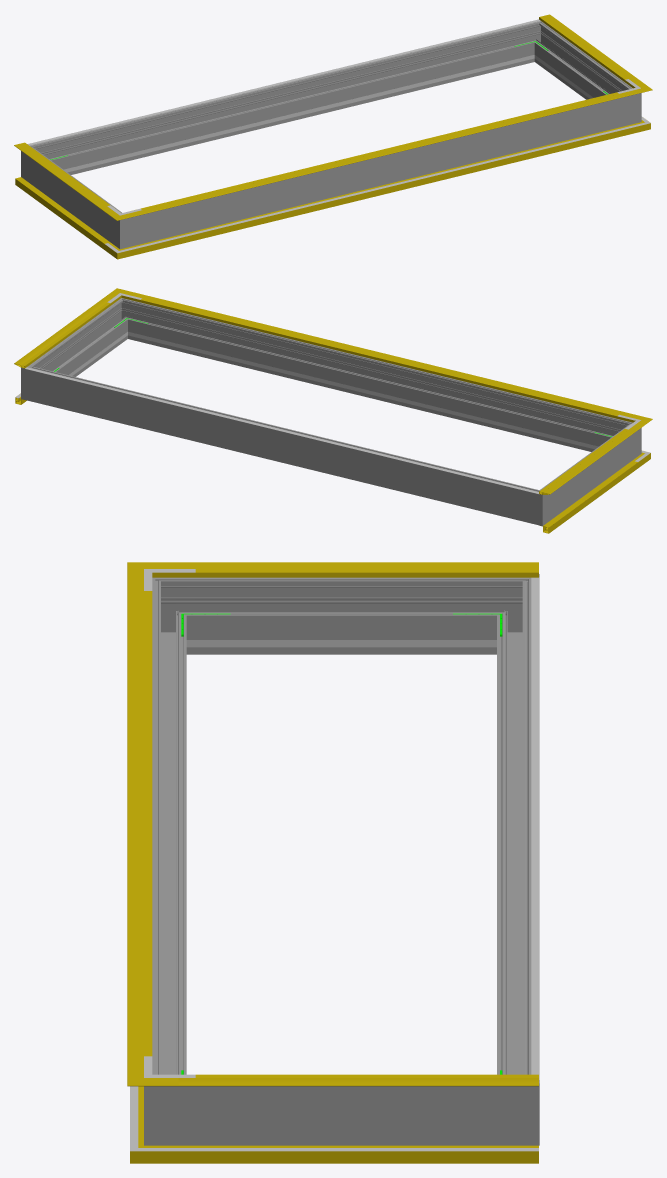
3 renders of one model, top to bottom at view 1: azimuth 30°, elevation 25°; view 2: azimuth 150°, elevation 25°; view 3: azimuth 270°, elevation 25°, orthographic. The views are drawn at different scales.
Parts seen in each view (by area): view 1: 3DGeom-276, 3DGeom-298, 3DGeom-11, 3DGeom-297, 3DGeom-141, 3DGeom-268, 3DGeom-244, 3DGeom-220, 3DGeom-20, 3DGeom-158, 3DGeom-270, 3DGeom-145 (+6 smaller); view 2: 3DGeom-298, 3DGeom-276, 3DGeom-141, 3DGeom-297, 3DGeom-268, 3DGeom-239, 3DGeom-220, 3DGeom-158, 3DGeom-278, 3DGeom-145, 3DGeom-6, 3DGeom-284 (+4 smaller); view 3: 3DGeom-268, 3DGeom-297, 3DGeom-276, 3DGeom-298, 3DGeom-141, 3DGeom-16, 3DGeom-147, 3DGeom-220, 3DGeom-158, 3DGeom-284, 3DGeom-145, 3DGeom-290 (+7 smaller).
Part boxes in pixels (x1=…): 3DGeom-276: x1=45, y1=25, x2=530, y2=174; 3DGeom-298: x1=142, y1=98, x2=619, y2=243; 3DGeom-11: x1=136, y1=126, x2=628, y2=253; 3DGeom-297: x1=537, y1=29, x2=624, y2=99; 3DGeom-141: x1=135, y1=92, x2=630, y2=215; 3DGeom-268: x1=34, y1=153, x2=113, y2=239; 3DGeom-244: x1=72, y1=60, x2=513, y2=171; 3DGeom-220: x1=27, y1=19, x2=540, y2=145; 3DGeom-20: x1=138, y1=127, x2=628, y2=247; 3DGeom-158: x1=140, y1=92, x2=618, y2=209; 3DGeom-270: x1=107, y1=207, x2=142, y2=249; 3DGeom-145: x1=539, y1=14, x2=639, y2=84; 3DGeom-298: x1=131, y1=302, x2=616, y2=451; 3DGeom-276: x1=43, y1=370, x2=524, y2=520; 3DGeom-141: x1=133, y1=293, x2=629, y2=420; 3DGeom-297: x1=37, y1=306, x2=125, y2=376; 3DGeom-268: x1=548, y1=430, x2=628, y2=516; 3DGeom-239: x1=149, y1=337, x2=590, y2=448; 3DGeom-220: x1=25, y1=367, x2=539, y2=494; 3DGeom-158: x1=140, y1=298, x2=618, y2=415; 3DGeom-278: x1=520, y1=484, x2=555, y2=526; 3DGeom-145: x1=14, y1=297, x2=114, y2=368; 3DGeom-6: x1=540, y1=460, x2=638, y2=533; 3DGeom-284: x1=21, y1=359, x2=47, y2=404; 3DGeom-268: x1=195, y1=577, x2=488, y2=654; 3DGeom-297: x1=195, y1=1086, x2=488, y2=1145; 3DGeom-276: x1=497, y1=596, x2=531, y2=1074; 3DGeom-298: x1=152, y1=596, x2=186, y2=1074; 3DGeom-141: x1=127, y1=584, x2=143, y2=1063; 3DGeom-16: x1=181, y1=1145, x2=538, y2=1163; 3DGeom-147: x1=178, y1=562, x2=538, y2=577; 3DGeom-220: x1=531, y1=577, x2=539, y2=1079; 3DGeom-158: x1=144, y1=591, x2=152, y2=1056; 3DGeom-284: x1=488, y1=1061, x2=539, y2=1145; 3DGeom-145: x1=178, y1=1078, x2=538, y2=1086; 3DGeom-290: x1=144, y1=1061, x2=195, y2=1145.
Size of the model in its own units: 3.66 by 0.2596 by 1.22.
